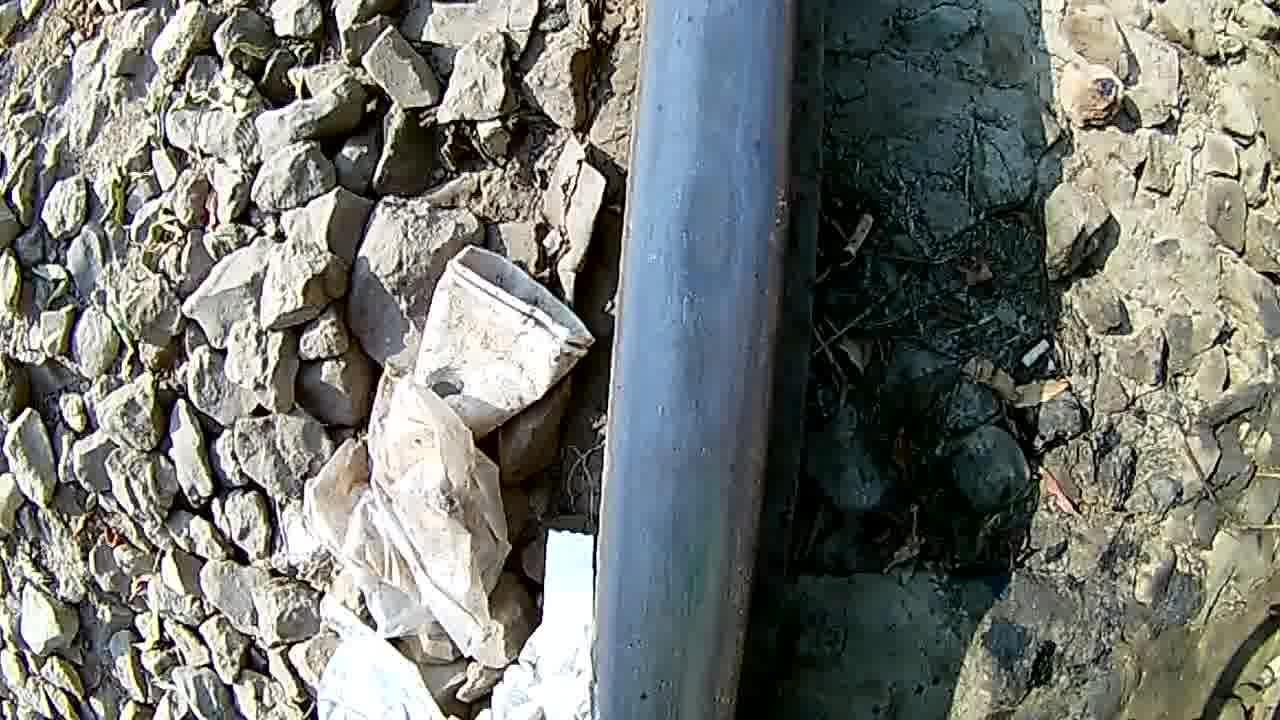crack: (620, 0, 818, 463)
